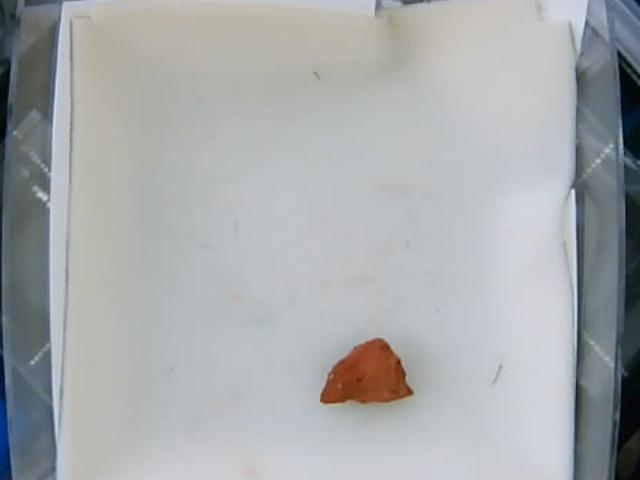Brisk: (319, 337, 417, 406)
